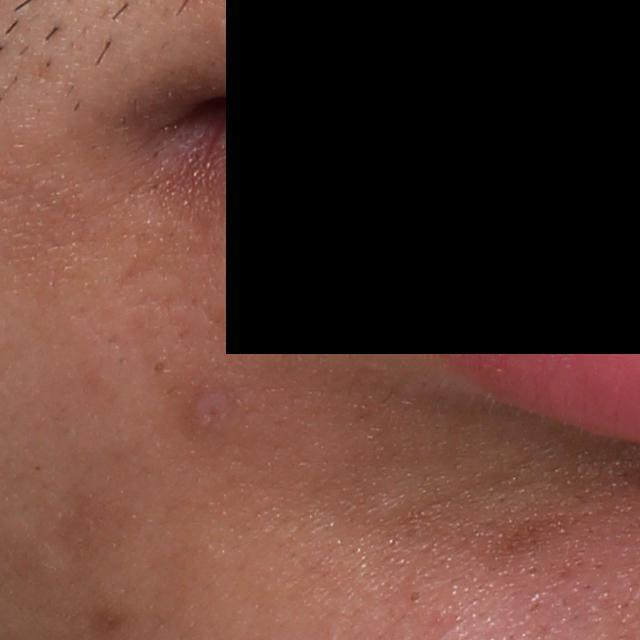comedo: (148, 354, 171, 377), (405, 590, 425, 607)
papule: (177, 374, 239, 438)
